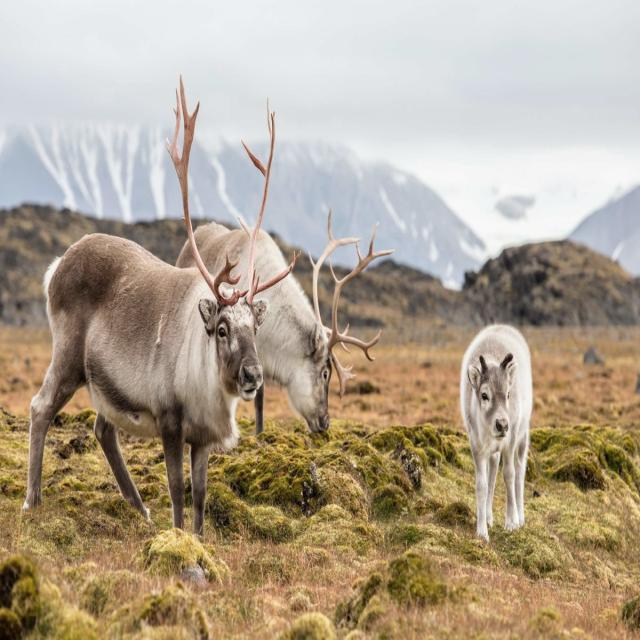reindeer: (23, 75, 292, 535), (254, 211, 392, 434), (460, 324, 532, 538)
